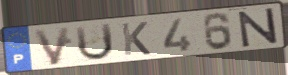4: (161, 17, 194, 53)
6: (201, 11, 234, 52)
K: (119, 20, 153, 57)
N: (236, 6, 280, 49)
U: (73, 21, 116, 62)
V: (31, 25, 73, 67)
